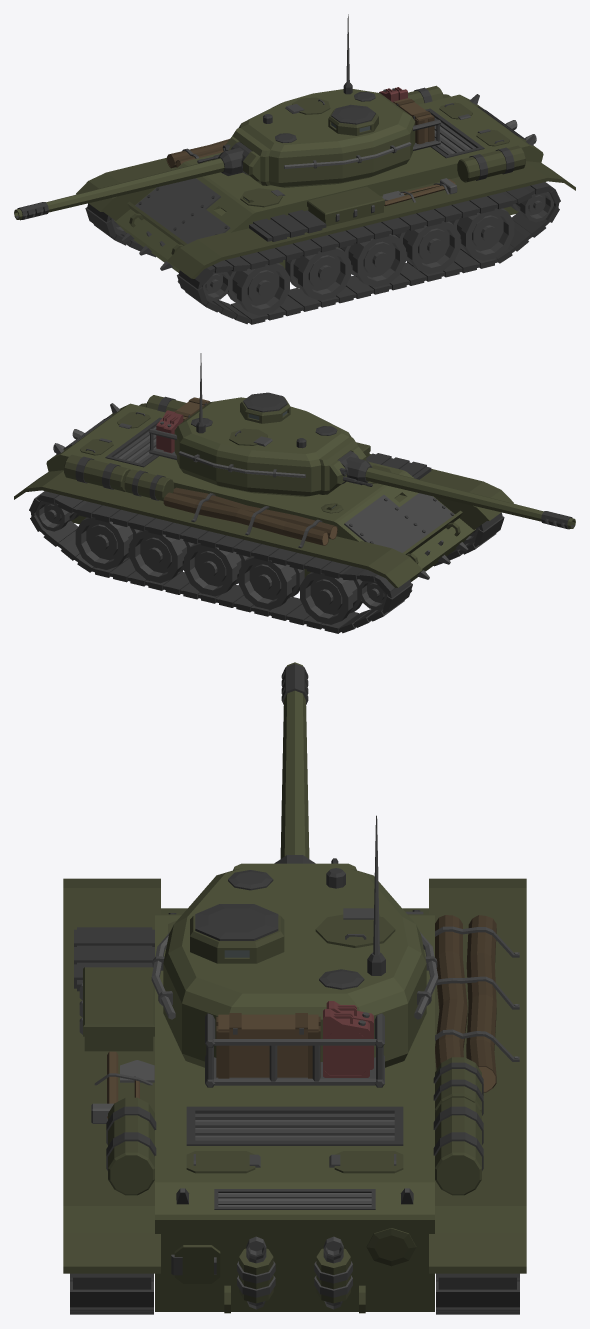
Rendered from tank.glb.
The picture shows the model from 3 angles, top to bottom: view 1: azimuth 30°, elevation 25°; view 2: azimuth 150°, elevation 25°; view 3: azimuth 270°, elevation 25°; orthographic projection. The views are drawn at different scales.
Visible parts, largest first — view 1: Object_7, Object_11, Object_13, Object_8, Object_9, Object_14, Object_12, Object_3, Object_5, Object_4; view 2: Object_7, Object_13, Object_11, Object_8, Object_5, Object_9, Object_14, Object_12, Object_2; view 3: Object_7, Object_8, Object_11, Object_9, Object_13, Object_14, Object_5, Object_12, Object_3, Object_2, Object_4.
Part boxes in pixels (x1=…): Object_7: x1=14, y1=89, x2=543, y2=272; Object_11: x1=15, y1=83, x2=560, y2=324; Object_13: x1=110, y1=88, x2=518, y2=315; Object_8: x1=76, y1=85, x2=575, y2=278; Object_9: x1=127, y1=97, x2=509, y2=254; Object_14: x1=121, y1=94, x2=553, y2=283; Object_12: x1=284, y1=14, x2=536, y2=200; Object_3: x1=384, y1=98, x2=455, y2=206; Object_5: x1=166, y1=139, x2=229, y2=168; Object_4: x1=393, y1=99, x2=434, y2=144; Object_7: x1=46, y1=397, x2=575, y2=581; Object_13: x1=71, y1=403, x2=479, y2=624; Object_11: x1=29, y1=392, x2=574, y2=633; Object_8: x1=14, y1=395, x2=513, y2=587; Object_5: x1=163, y1=487, x2=337, y2=545; Object_9: x1=80, y1=397, x2=462, y2=563; Object_14: x1=36, y1=397, x2=468, y2=592; Object_12: x1=53, y1=353, x2=305, y2=546; Object_2: x1=156, y1=410, x2=183, y2=453; Object_7: x1=155, y1=662, x2=434, y2=1311; Object_8: x1=63, y1=878, x2=526, y2=1303; Object_11: x1=70, y1=663, x2=519, y2=1314; Object_9: x1=161, y1=908, x2=428, y2=1313; Object_13: x1=94, y1=911, x2=519, y2=1204; Object_14: x1=79, y1=908, x2=437, y2=1297; Object_5: x1=435, y1=915, x2=496, y2=1092; Object_12: x1=91, y1=815, x2=518, y2=1309; Object_3: x1=107, y1=1014, x2=318, y2=1118; Object_2: x1=323, y1=1001, x2=373, y2=1077; Object_4: x1=216, y1=1013, x2=320, y2=1078.
Bounding box in the file's own units: 4.04 × 1.61 × 1.59.
